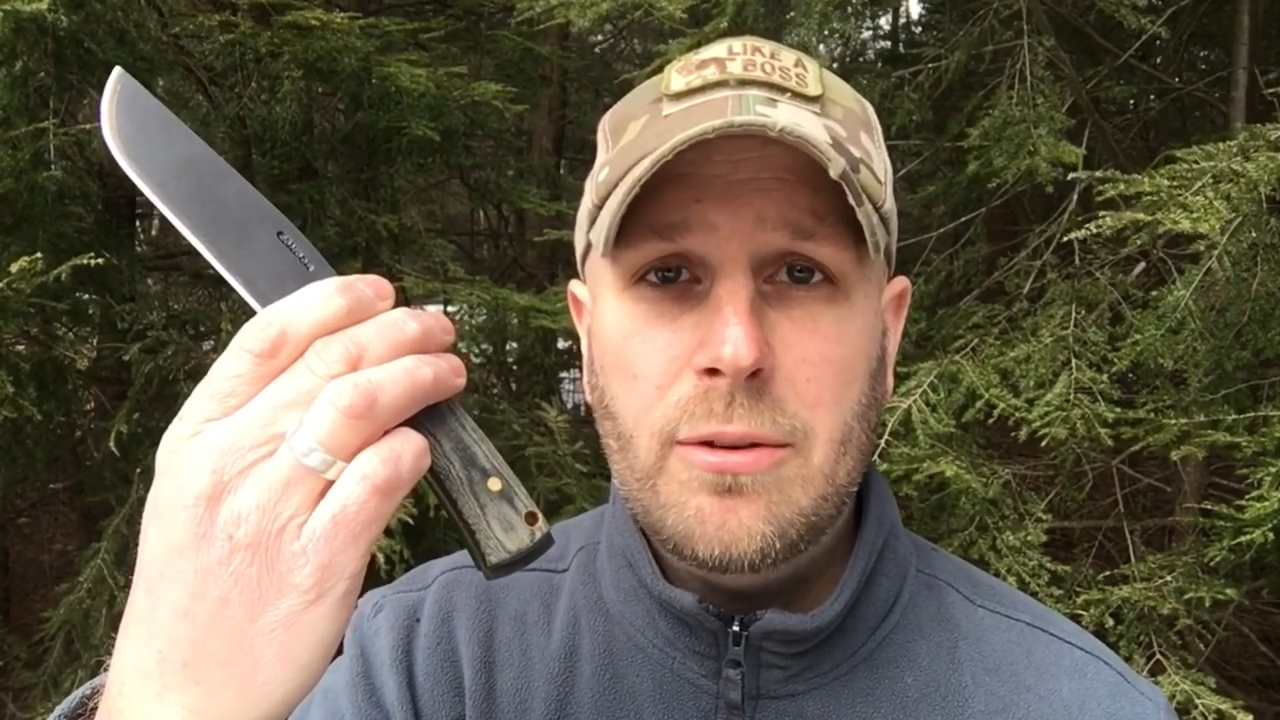knife: (85, 53, 471, 433)
